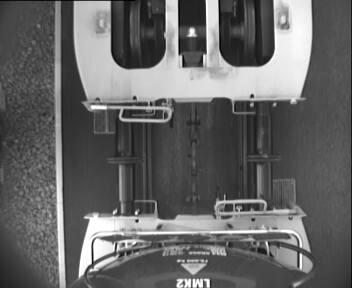twist_lock_2: (106, 1, 279, 74)
